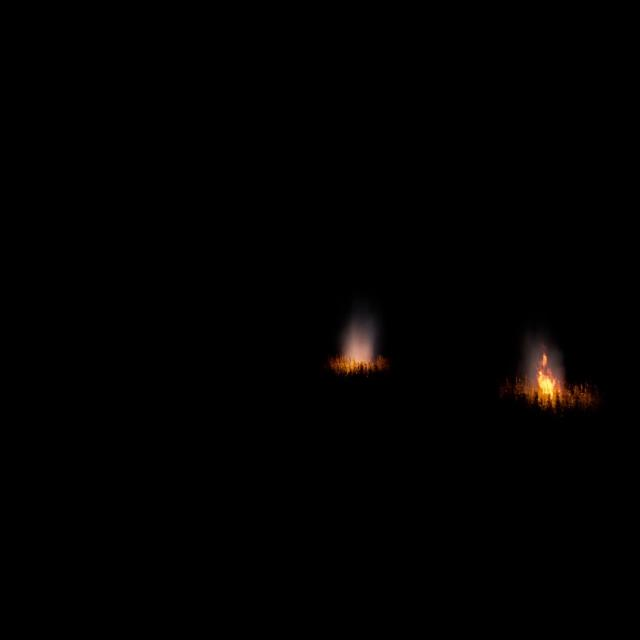fire: (535, 349, 560, 405)
smoke: (527, 326, 565, 394), (342, 317, 376, 360)
